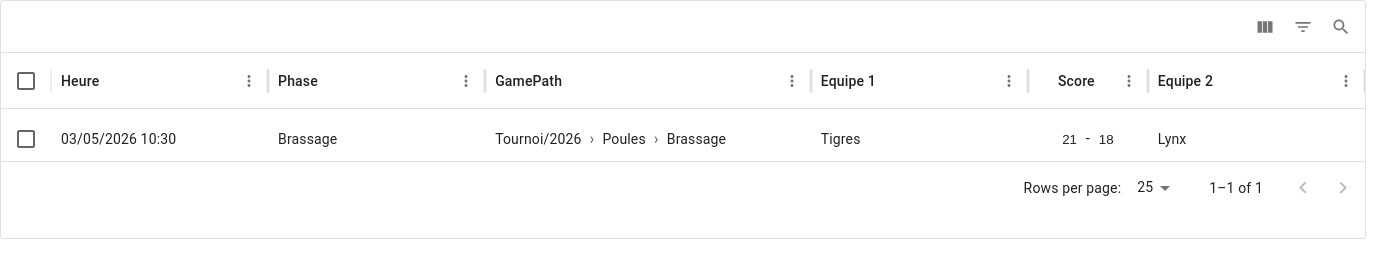
AdminGamesTable › should edit a score without notifying a row click
Click the button named "Modifier le score de Tigres". click: (1070,139)
box: [1056,125,1084,153]
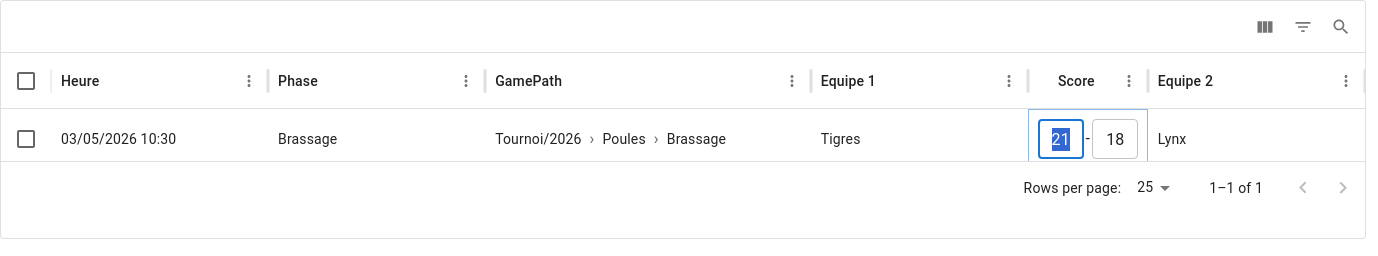
Result: the field named "Score Tigres" is shown at [1038,119,1084,159]
